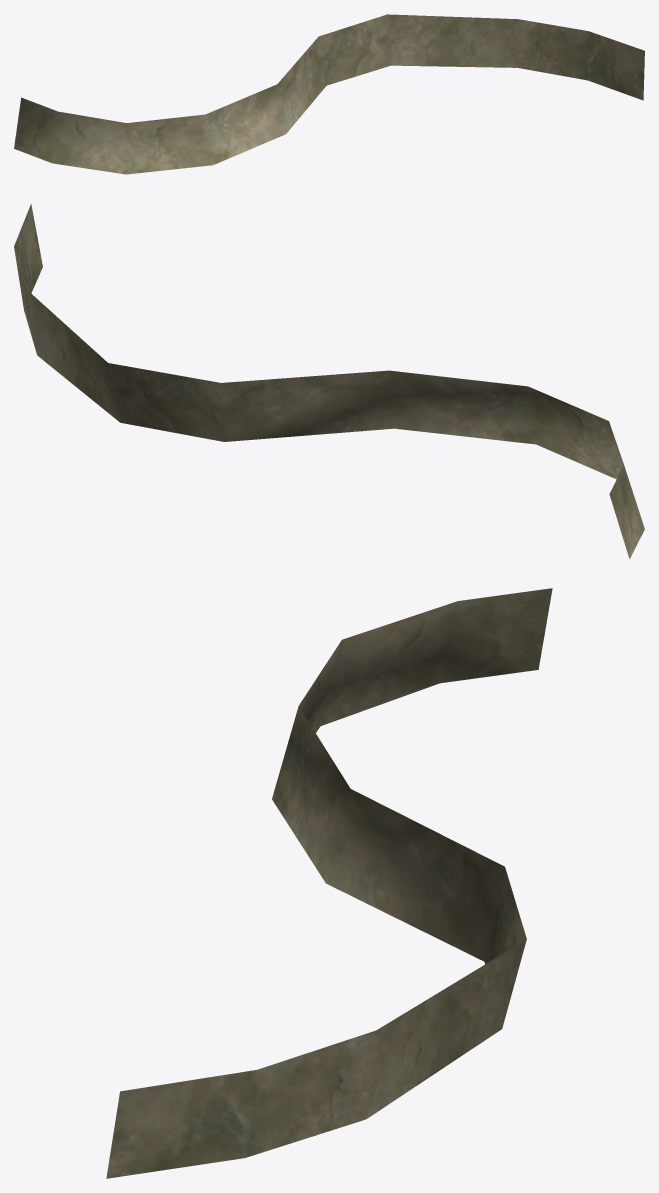
File: EKH_CAVERNS_PS_CA_WALL_TRIM7279.fbx
3 views of the same model, one above another, from view 1: azimuth 30°, elevation 25°; view 2: azimuth 150°, elevation 25°; view 3: azimuth 270°, elevation 25° (orthographic). The views are drawn at different scales.
Parts seen in each view (by area): view 1: EKH_CAVERNS_PS_CA_WALL_TRIM7279; view 2: EKH_CAVERNS_PS_CA_WALL_TRIM7279; view 3: EKH_CAVERNS_PS_CA_WALL_TRIM7279.
Part boxes in pixels (x1,y1,x2,y2): EKH_CAVERNS_PS_CA_WALL_TRIM7279: [14, 14, 644, 174]; EKH_CAVERNS_PS_CA_WALL_TRIM7279: [14, 203, 644, 558]; EKH_CAVERNS_PS_CA_WALL_TRIM7279: [106, 588, 552, 1178].
Bounding box in the file's own units: 86481 × 7239 × 31751.
Materials: 1 (1 with a texture image).
